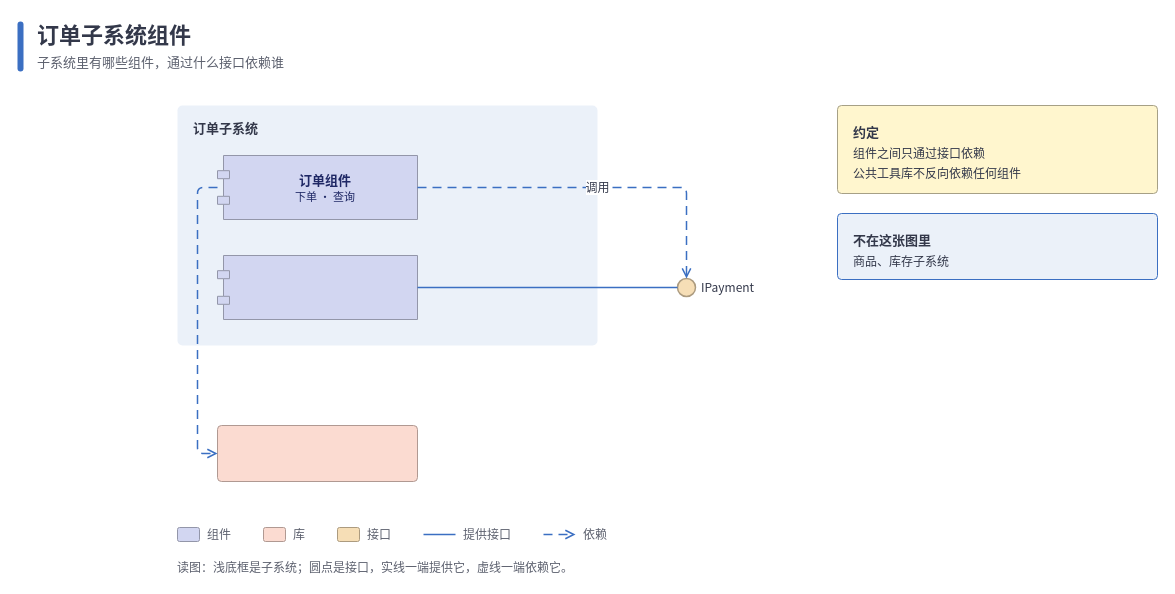
Some shapes in this 1175 by 594 pixel diagram are drawn without their labels. Here are the shapes that lost their labels. From the top down, the centre of each, then its label:
point (317, 287): 支付组件 收银台 · 回调
point (317, 453): 公共工具库 日期 · 金额
